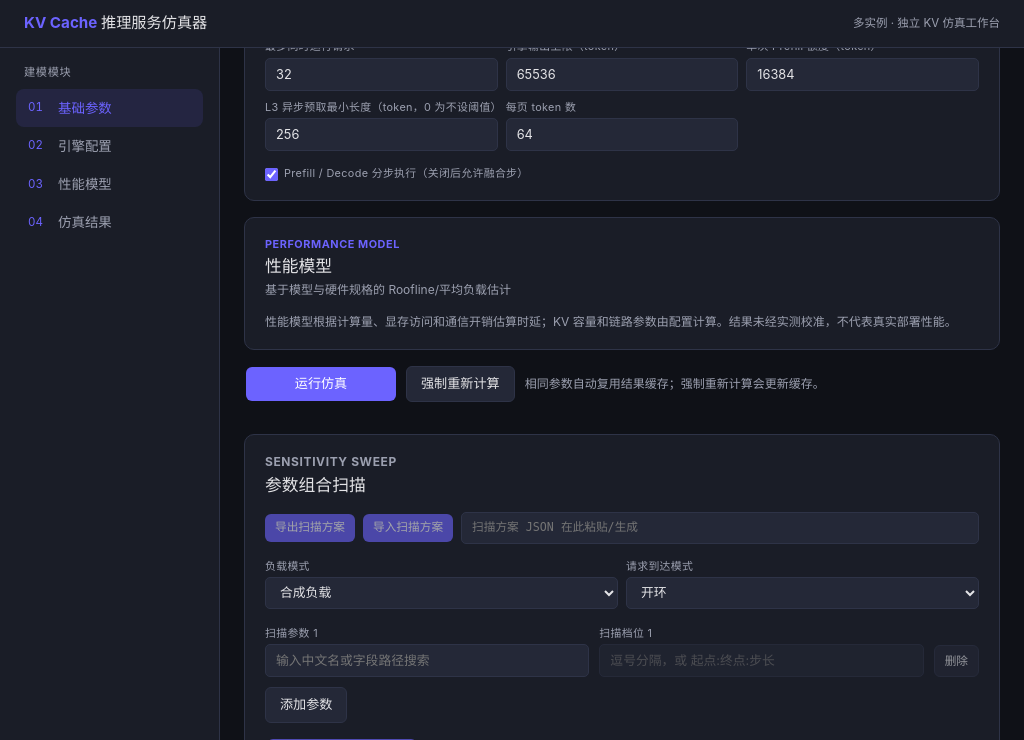
it: App › routes the single run button to the simulation API
(page scrolled)
Click the button "运行仿真" at (321, 384), box x1=246 y1=367 x2=396 y2=401
(page scrolled)
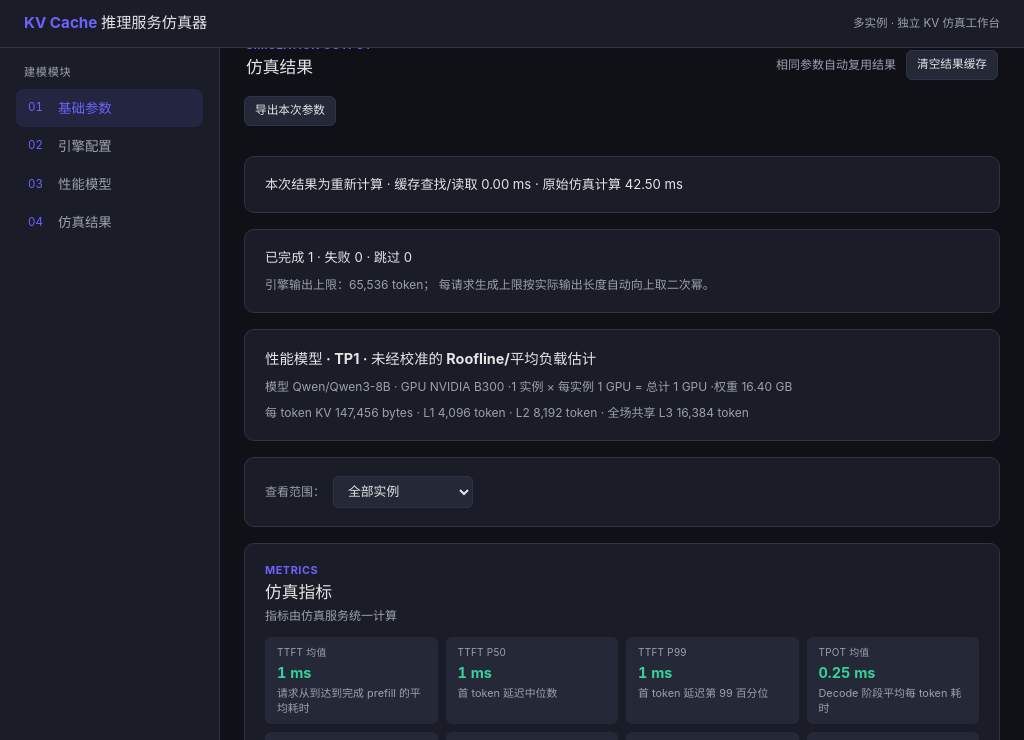
Now the heading "仿真指标" is shown, box x1=265 y1=582 x2=332 y2=602
Now the element named "性能模型配置与成本" shows "性能模型", box x1=265 y1=350 x2=353 y2=367
Now the element named "性能模型配置与成本" shows "模型 Qwen/Qwen3-8B", box x1=244 y1=329 x2=1000 y2=440
